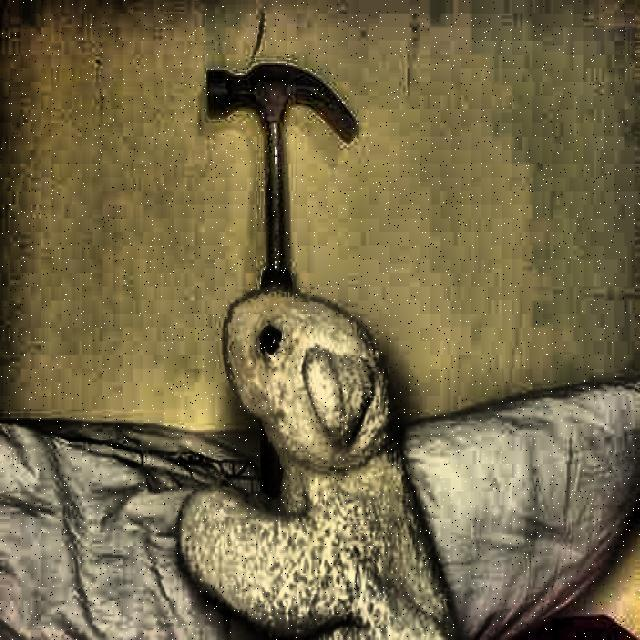hammer: (206, 61, 362, 481)
